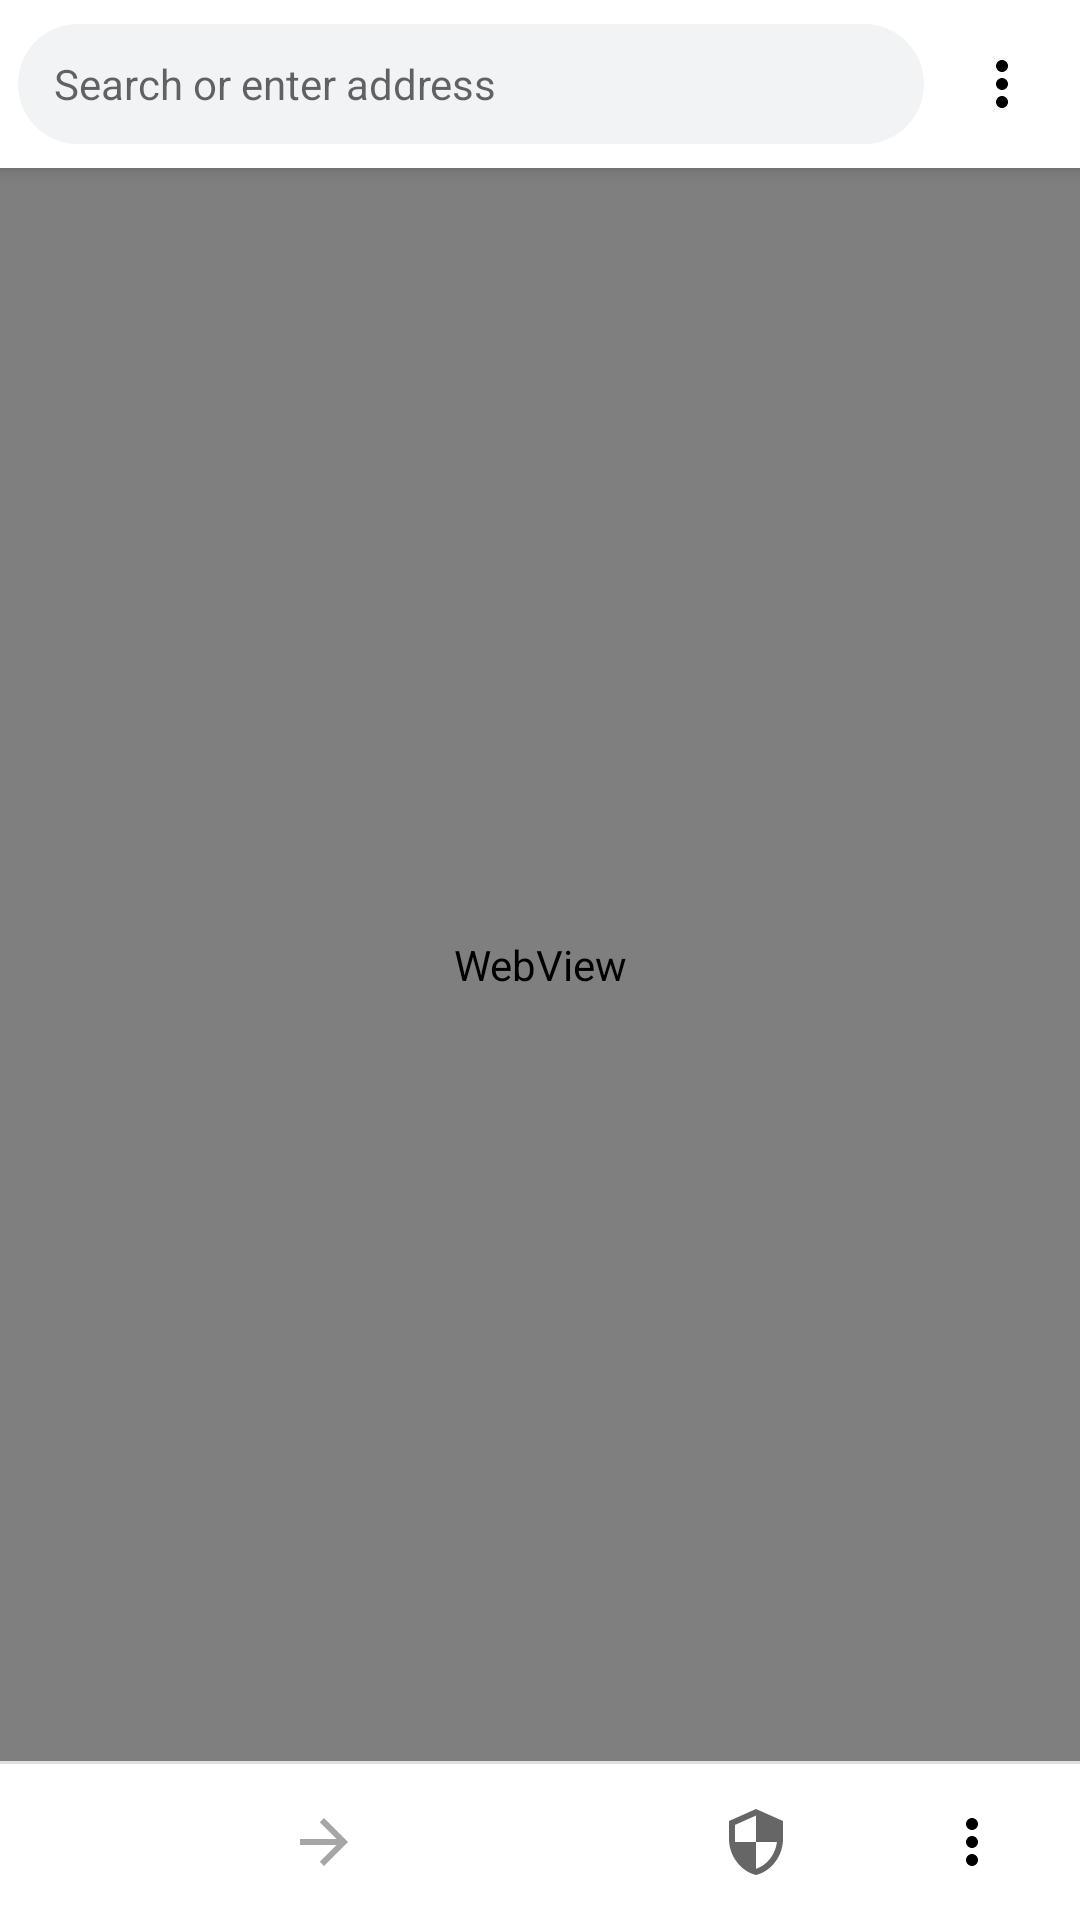

Where icons sit on this 1080 x 1920 app screen, as Rect(x1, y1, x2, y2):
Forward: Rect(300, 1818, 348, 1866)
Menu: Rect(996, 60, 1008, 108), Rect(966, 1818, 978, 1866)
